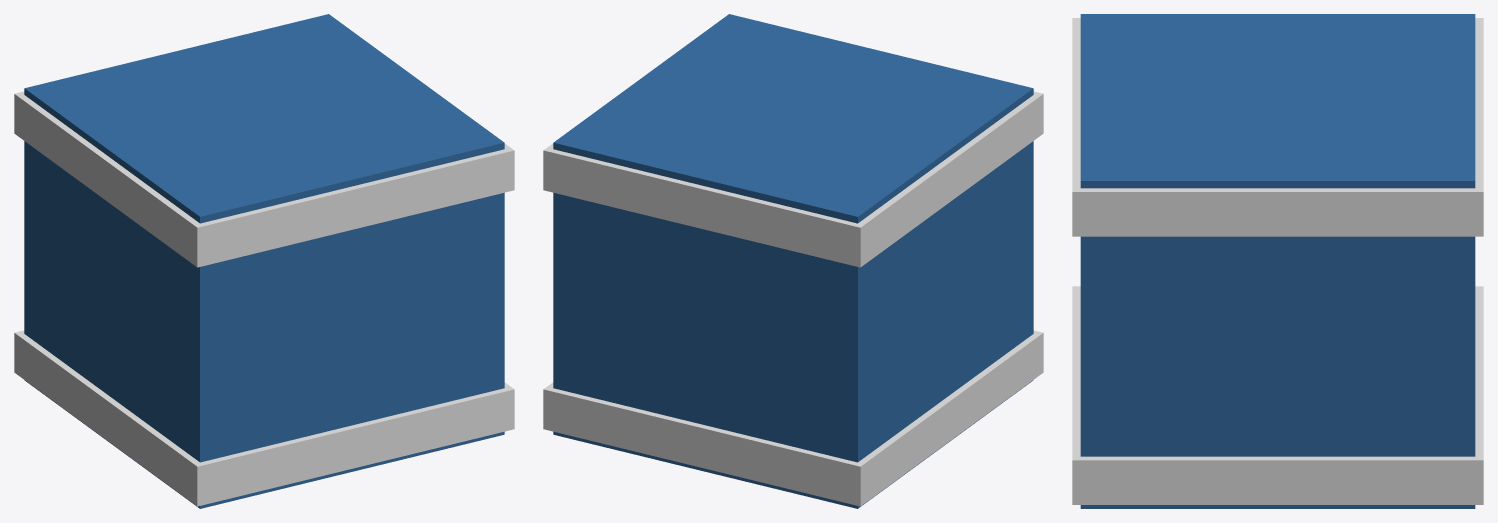
File: ocean_crate.glb
3 views of the same model, side by side, from view 1: azimuth 30°, elevation 25°; view 2: azimuth 150°, elevation 25°; view 3: azimuth 270°, elevation 25° (orthographic). The views are drawn at different scales.
Visible parts, largest first — view 1: ocean_crate_v0; view 2: ocean_crate_v0; view 3: ocean_crate_v0.
Boxes of the visible parts, x1,y1,x2,y2 form: ocean_crate_v0: (14, 14, 514, 508); ocean_crate_v0: (543, 14, 1043, 508); ocean_crate_v0: (1072, 14, 1483, 508).
Size of the model in its own units: 0.25 by 0.22 by 0.25.
